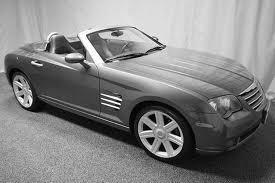car: (4, 25, 270, 165)
